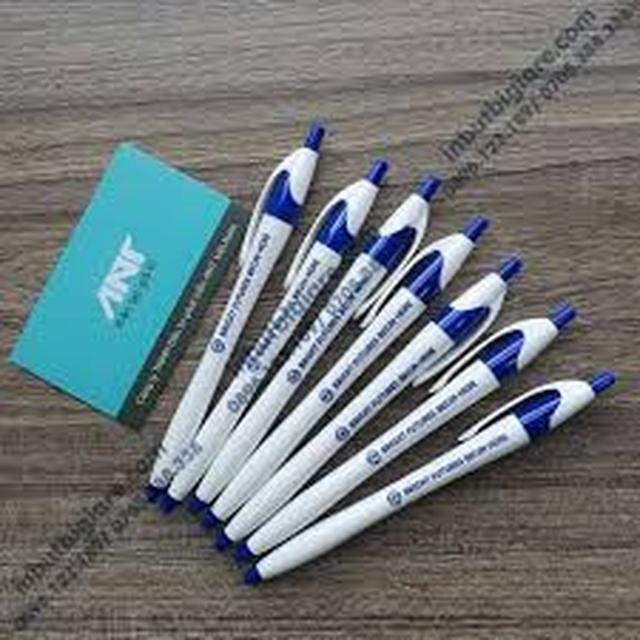pen: (167, 192, 518, 564), (176, 234, 549, 584), (211, 274, 615, 582), (169, 149, 467, 529), (218, 339, 635, 603), (145, 135, 414, 527), (127, 97, 364, 517)
